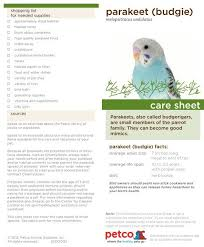budgie: (129, 38, 177, 80)
